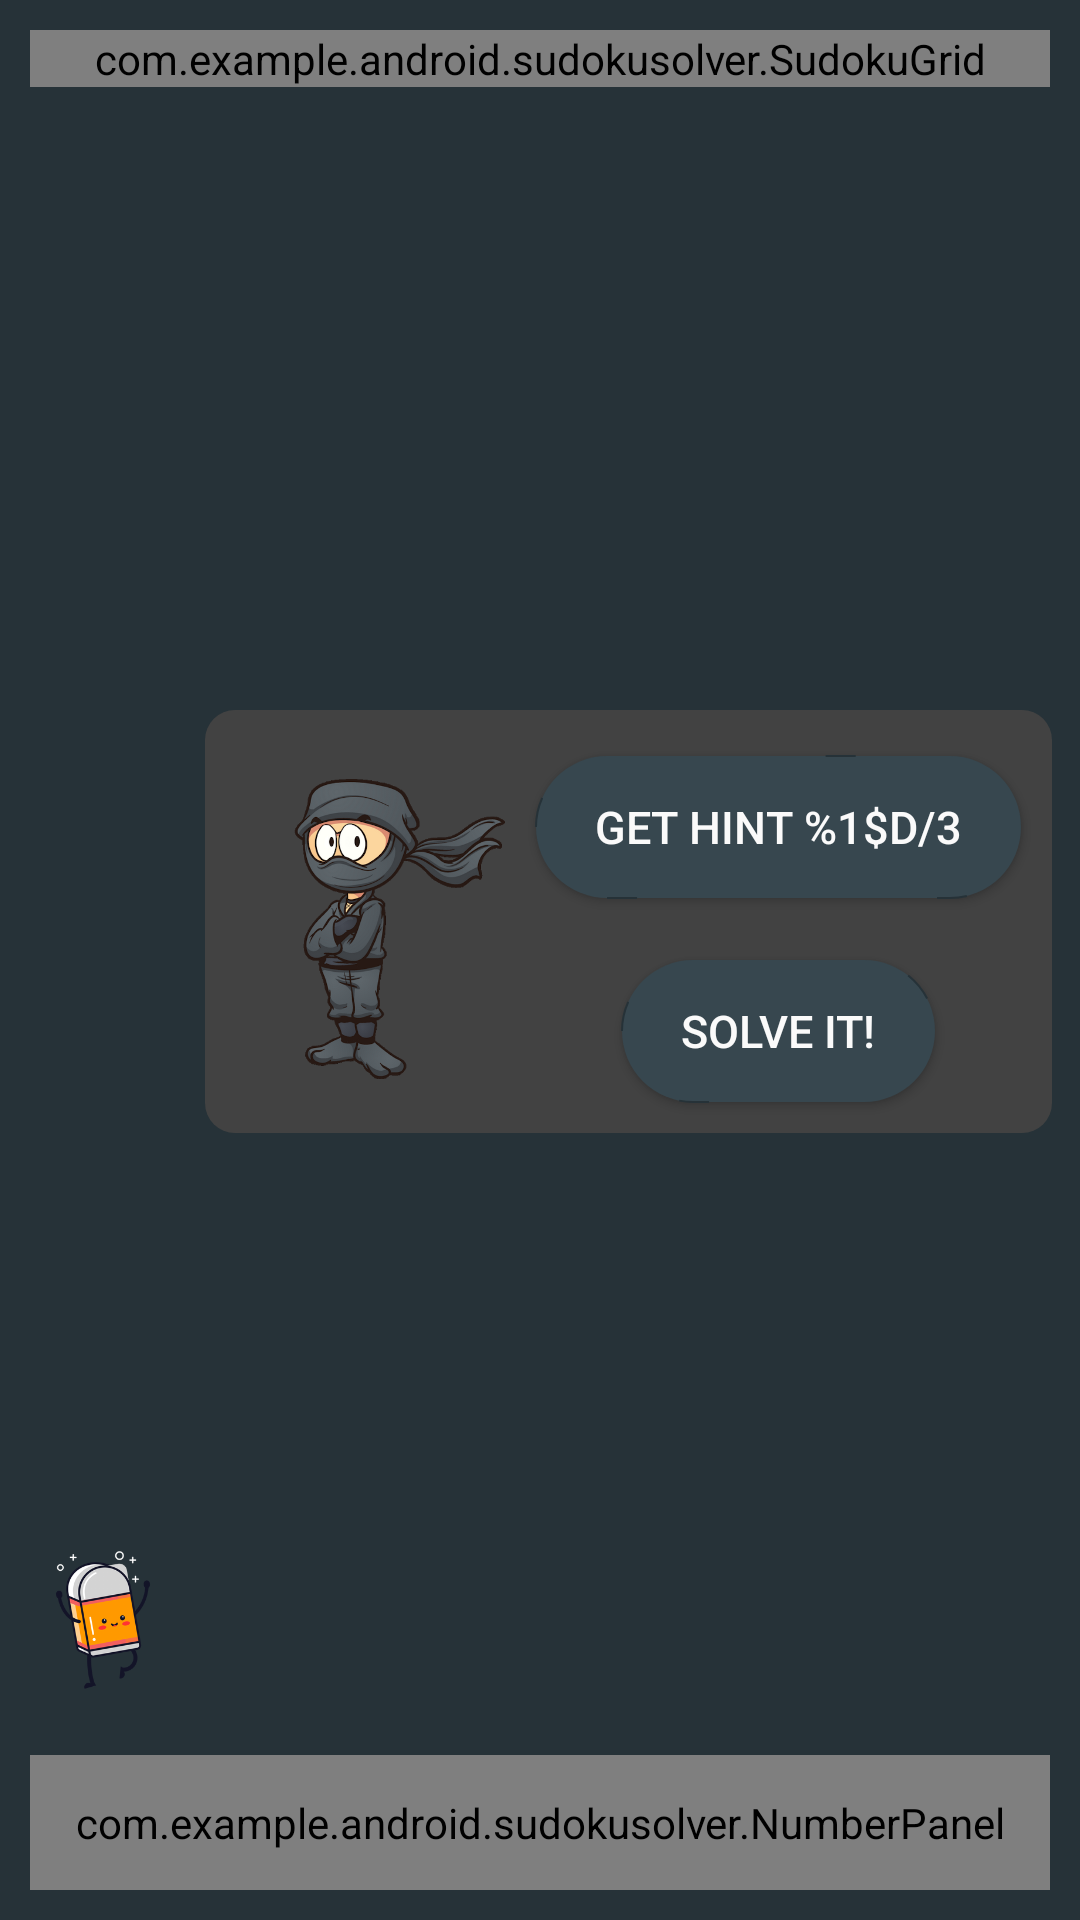

Named icons in this screenshot (1080w x 1920h) and their bounding boxes, (x1, y1, x2, y2):
eraser: (56, 1551, 150, 1688)
ninja: (295, 779, 505, 1079)
